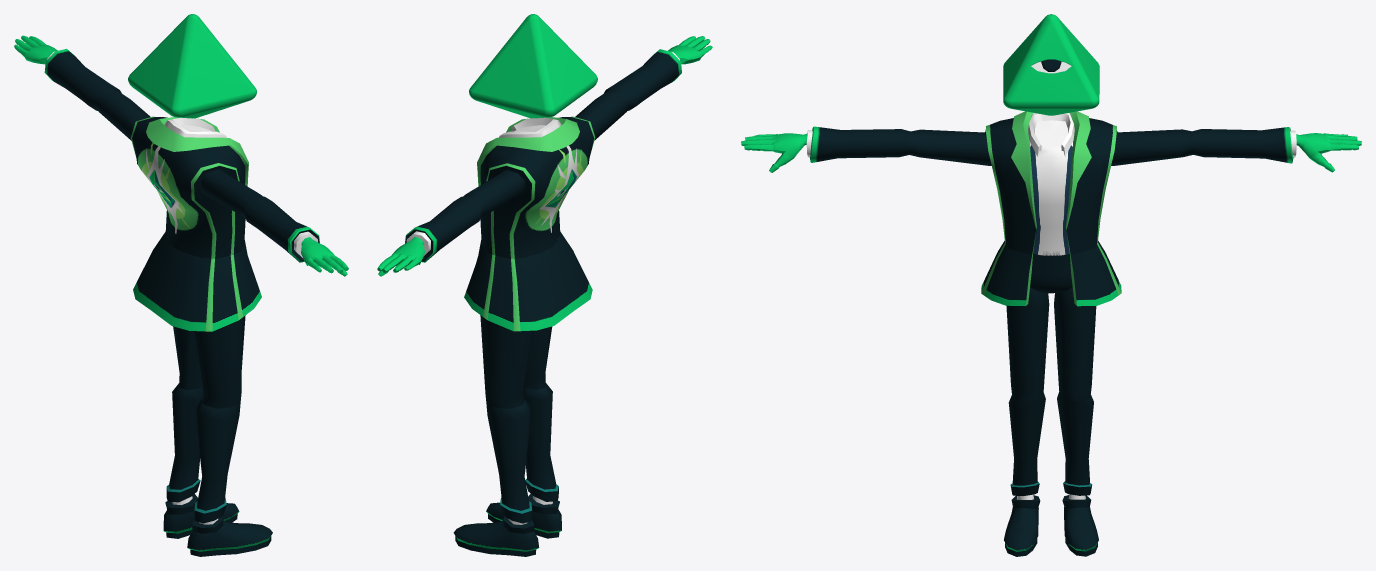
Rendered from CoolPolygonalMind.fbx.
3 renders of one model, left to right at view 1: azimuth 30°, elevation 25°; view 2: azimuth 150°, elevation 25°; view 3: azimuth 270°, elevation 25°, orthographic. The views are drawn at different scales.
Parts seen in each view (by area): view 1: _100Avatars_200_CoolPolygonalMind; view 2: _100Avatars_200_CoolPolygonalMind; view 3: _100Avatars_200_CoolPolygonalMind.
Boxes of the visible parts, bbox=[...] form: _100Avatars_200_CoolPolygonalMind: bbox=[14, 14, 348, 556]; _100Avatars_200_CoolPolygonalMind: bbox=[377, 14, 712, 556]; _100Avatars_200_CoolPolygonalMind: bbox=[741, 14, 1361, 556].
Bounding box in the file's own units: 0.7521 × 3.59 × 3.94.
1 material, 1 textured.
